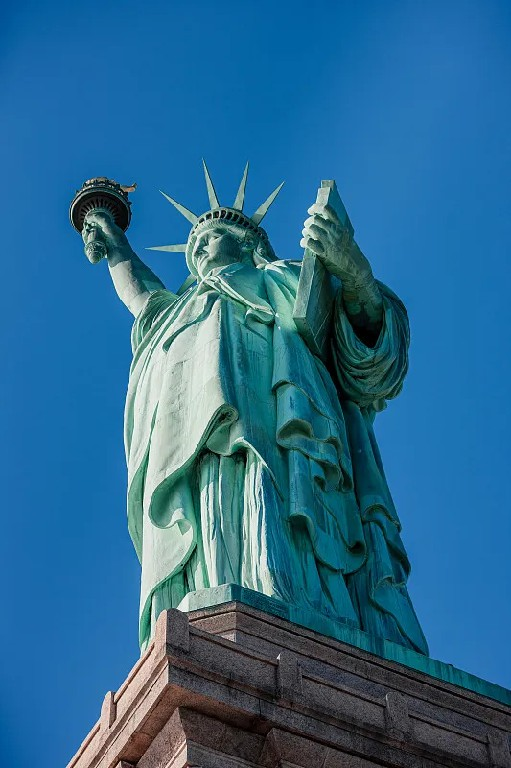SL: (64, 157, 511, 768)
